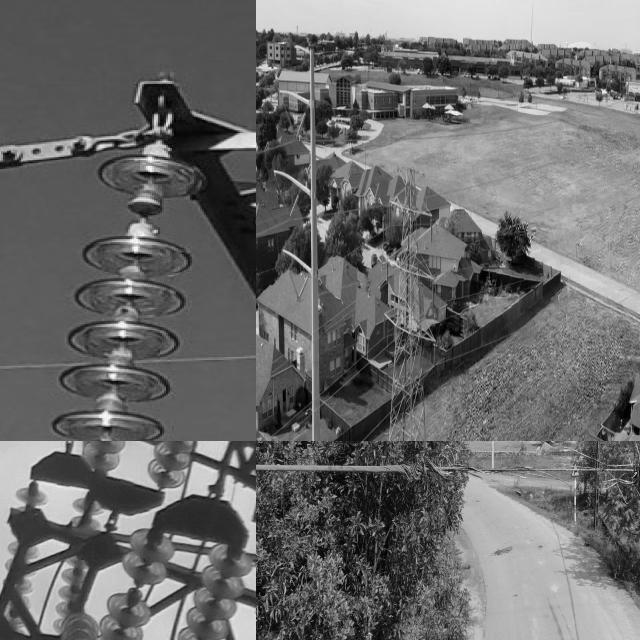杆塔: (0, 441, 256, 640), (176, 0, 256, 441), (376, 164, 443, 441)
正常绝缘子: (31, 129, 199, 441), (85, 517, 188, 640), (165, 539, 256, 640), (388, 202, 394, 232), (429, 215, 434, 246), (385, 256, 390, 287), (432, 344, 438, 368), (383, 314, 387, 341)
电缆破损: (403, 441, 640, 498)
绝缘子破损: (124, 182, 170, 241), (124, 584, 146, 598)
